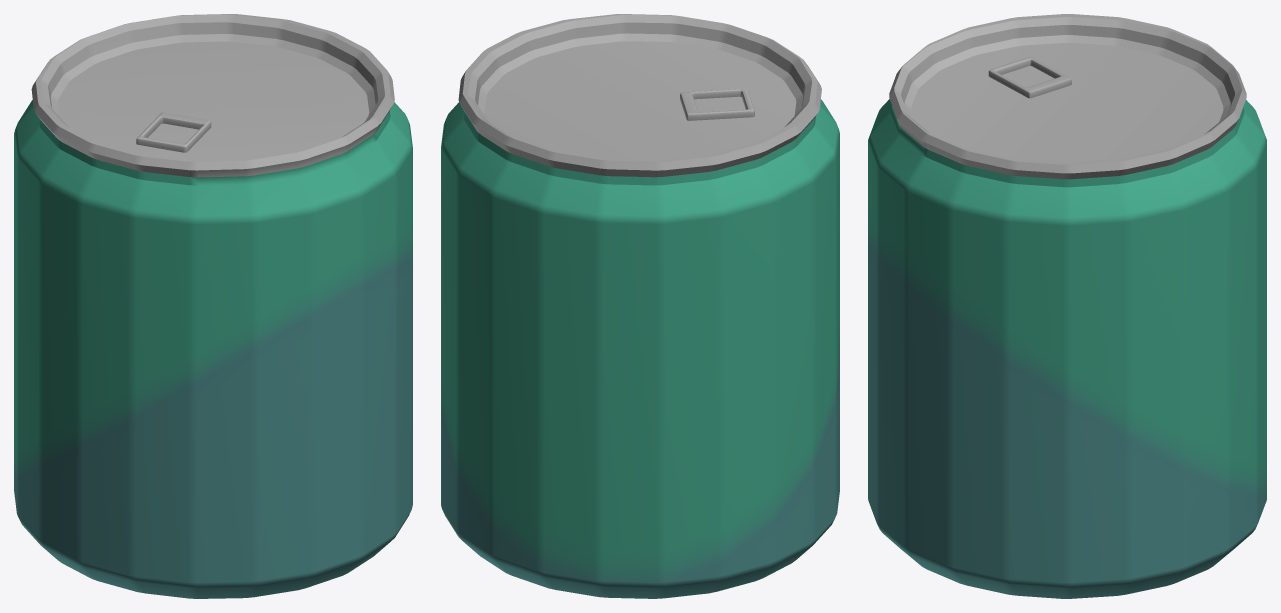
The model's file is Ürün78.fbx.
3 views of the same model, side by side, from view 1: azimuth 30°, elevation 25°; view 2: azimuth 150°, elevation 25°; view 3: azimuth 270°, elevation 25° (orthographic).
Parts seen in each view (by area): view 1: Ürün12; view 2: Ürün12; view 3: Ürün12.
Part boxes in pixels (x1,y1,x2,y2): Ürün12: (14, 14, 412, 598); Ürün12: (441, 14, 839, 598); Ürün12: (868, 14, 1266, 598).
Size of the model in its own units: 11.57 by 14.02 by 11.57.
